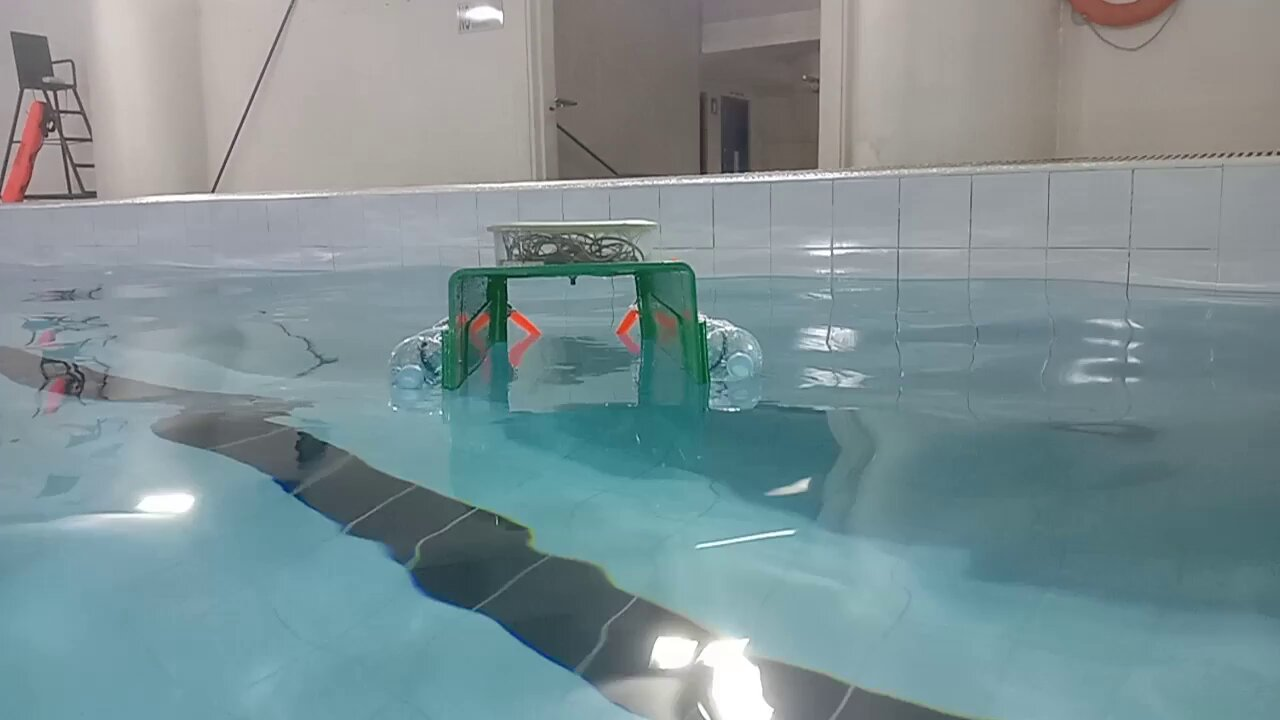drone: (385, 216, 766, 401)
